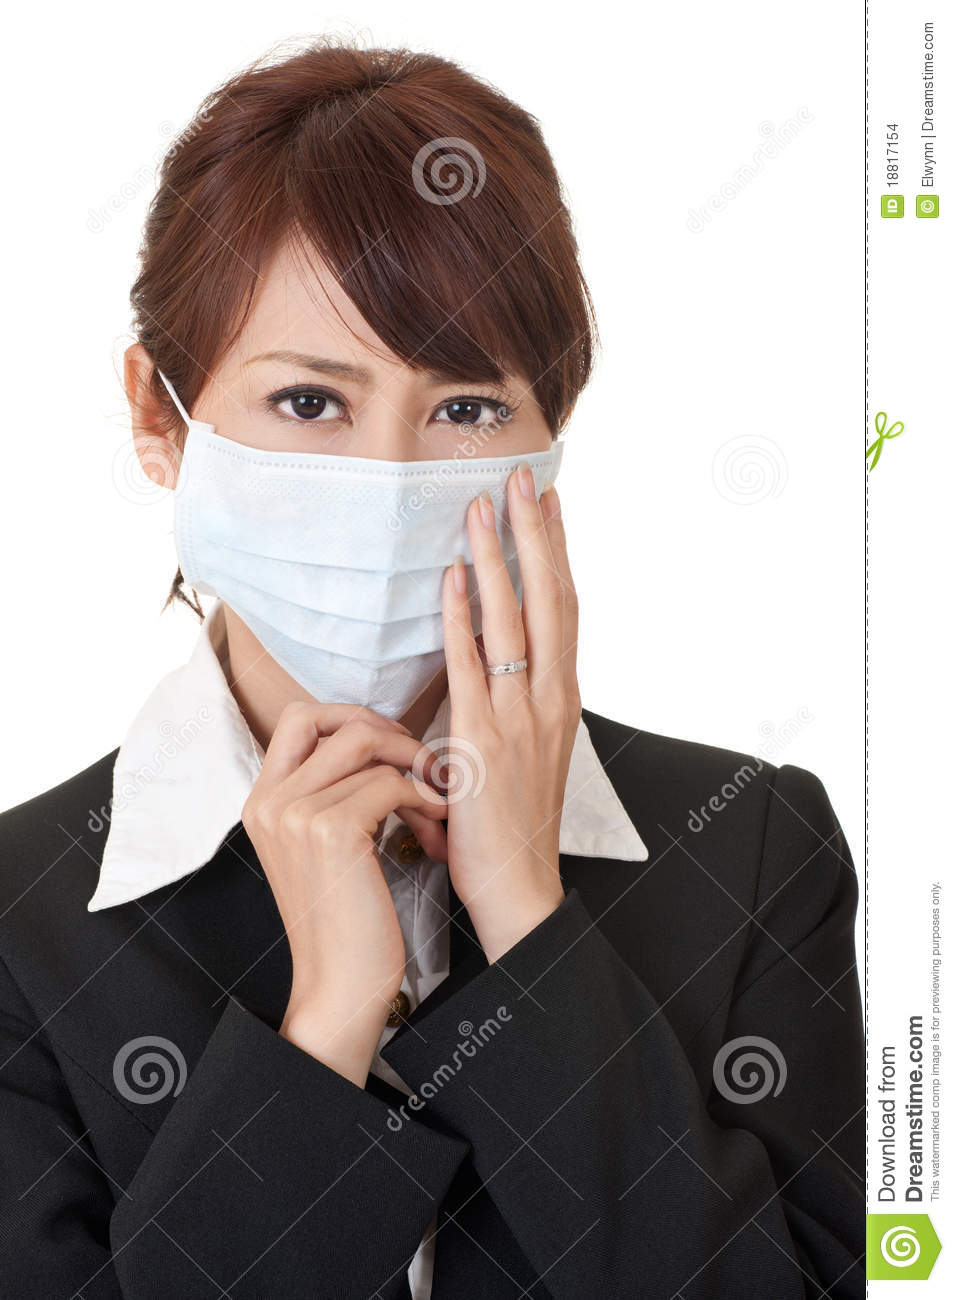mask: (166, 426, 564, 725)
